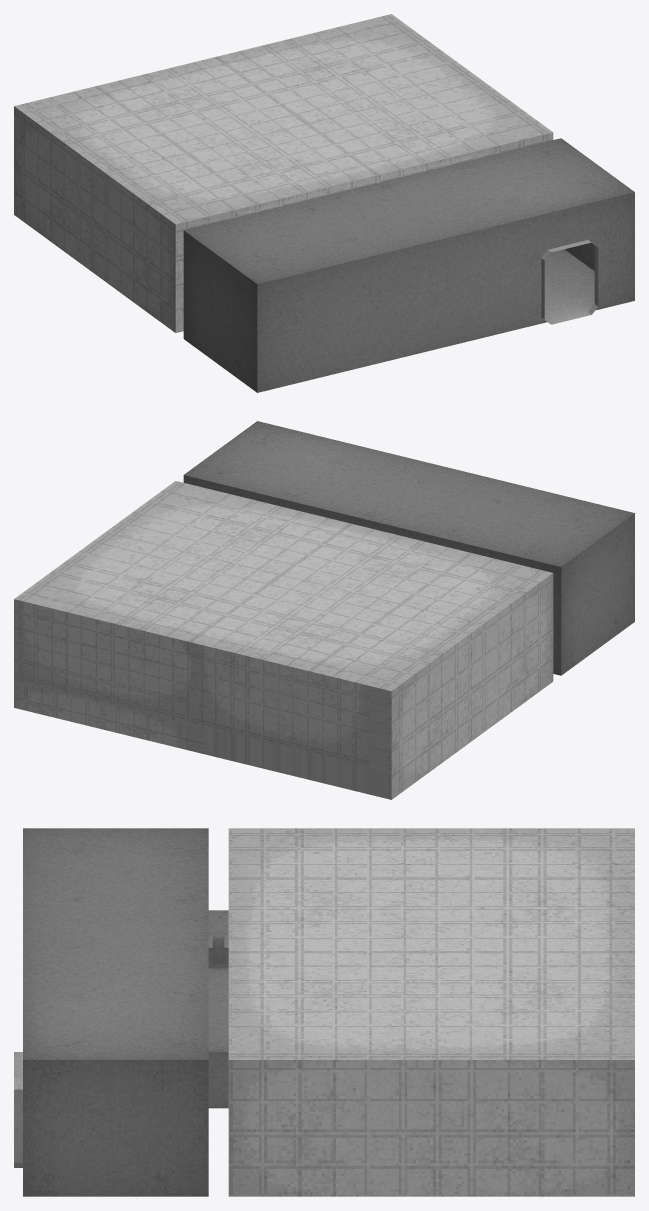
File: Room_Main.fbx
The picture shows the model from 3 angles, top to bottom: view 1: azimuth 30°, elevation 25°; view 2: azimuth 150°, elevation 25°; view 3: azimuth 270°, elevation 25°; orthographic projection. The views are drawn at different scales.
Visible parts, largest first — view 1: Room; view 2: Room; view 3: Room.
Part boxes in pixels (x1=…): Room: x1=14, y1=14, x2=634, y2=392; Room: x1=14, y1=421, x2=634, y2=799; Room: x1=14, y1=828, x2=634, y2=1196.
Size of the model in its own units: 913 by 251 by 1035.
